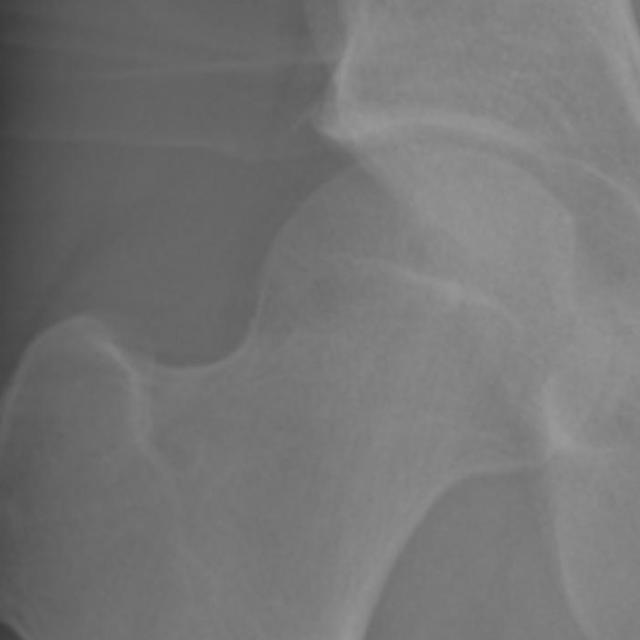Fitted_femural_head: (355, 146, 432, 355)
